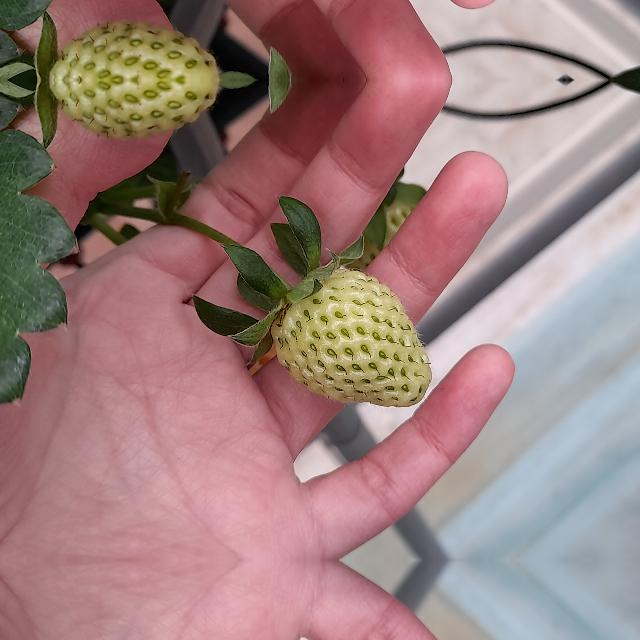Health_25: (271, 268, 431, 408), (46, 80, 224, 140), (46, 20, 224, 80)
